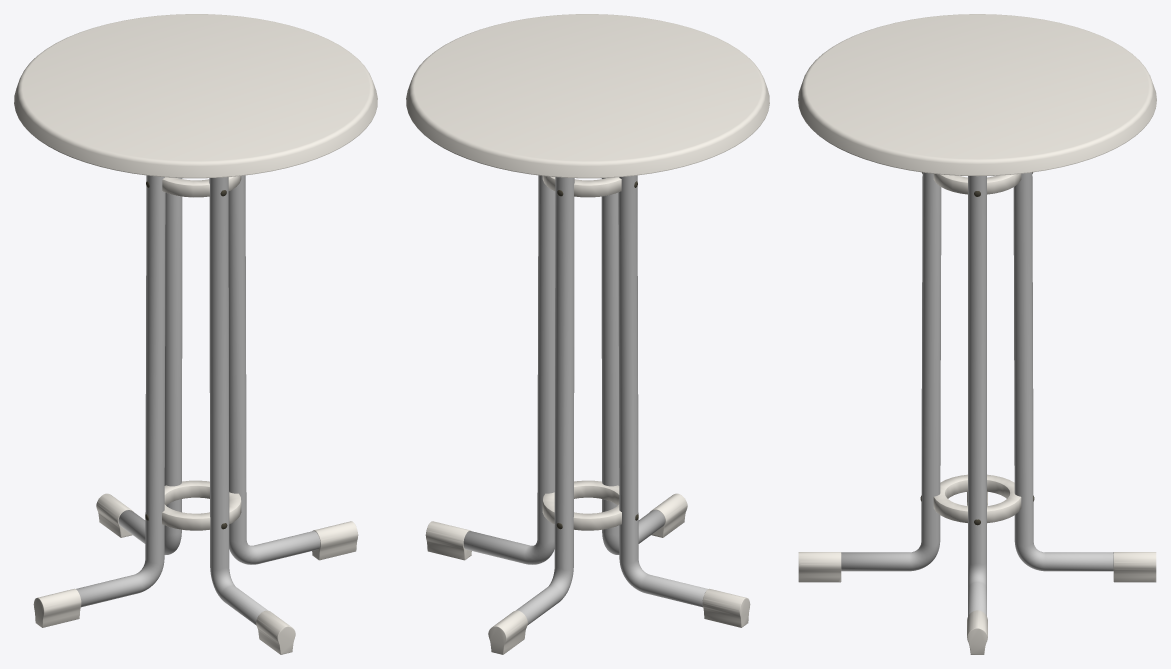
File: white_outdoor_standing_table_81b62867.fbx
3 renders of one model, left to right at view 1: azimuth 30°, elevation 25°; view 2: azimuth 150°, elevation 25°; view 3: azimuth 270°, elevation 25°, orthographic.
Visible parts, largest first — view 1: white_outdoor_standing_table_81b62867; view 2: white_outdoor_standing_table_81b62867; view 3: white_outdoor_standing_table_81b62867.
Part boxes in pixels (x1,y1,x2,y2): white_outdoor_standing_table_81b62867: [14, 14, 377, 654]; white_outdoor_standing_table_81b62867: [406, 14, 769, 654]; white_outdoor_standing_table_81b62867: [798, 14, 1156, 654].
Bounding box in the file's own units: 0.7592 × 1.15 × 0.7592.
Materials: 3 (2 with a texture image).
